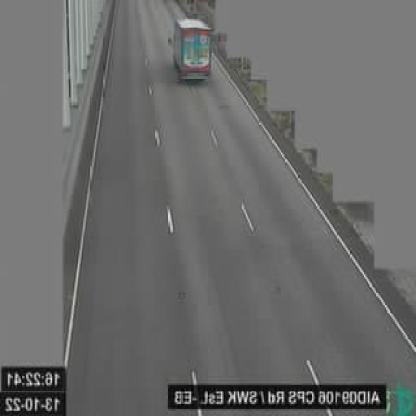Truck: (174, 18, 210, 80)
